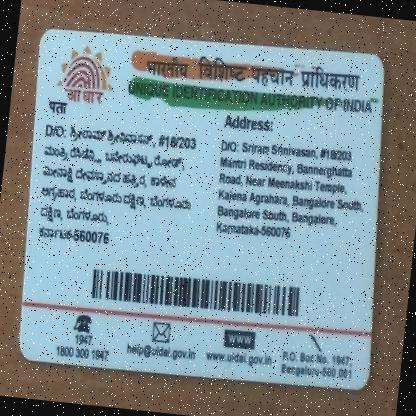aadhaar_card: (2, 14, 409, 404)
